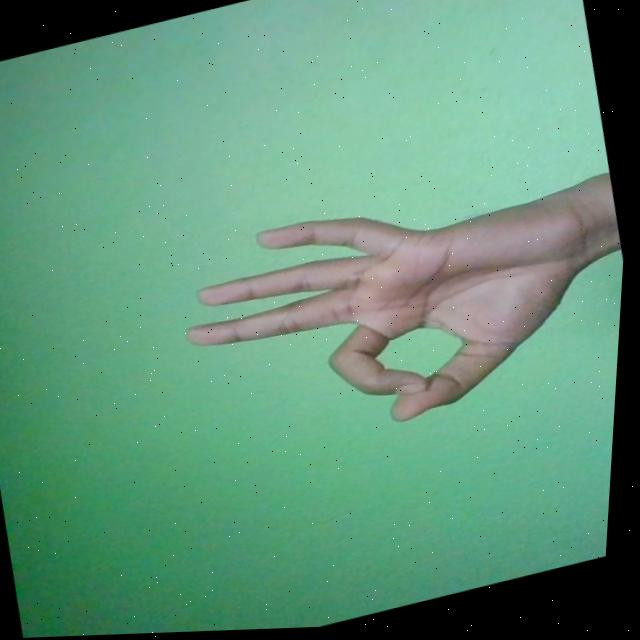Ok: (163, 153, 628, 473)
